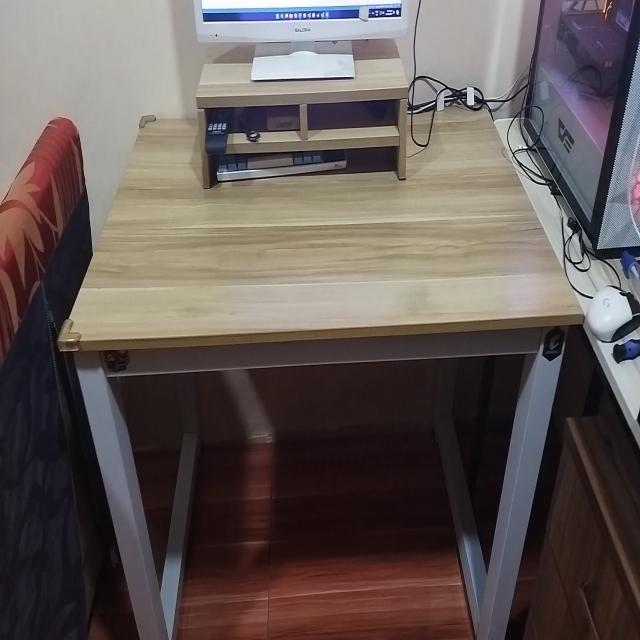table: (88, 114, 572, 640)
